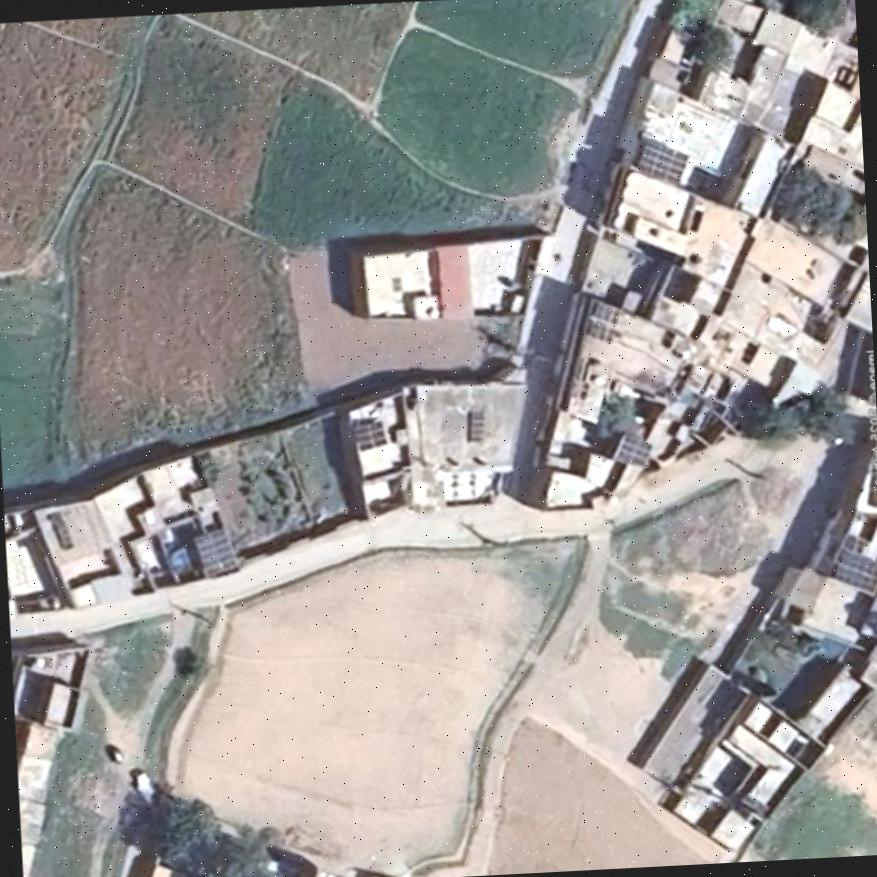Solarpanel: (831, 547, 877, 592), (193, 529, 234, 572), (640, 144, 683, 180), (616, 433, 650, 467), (354, 420, 386, 447)
